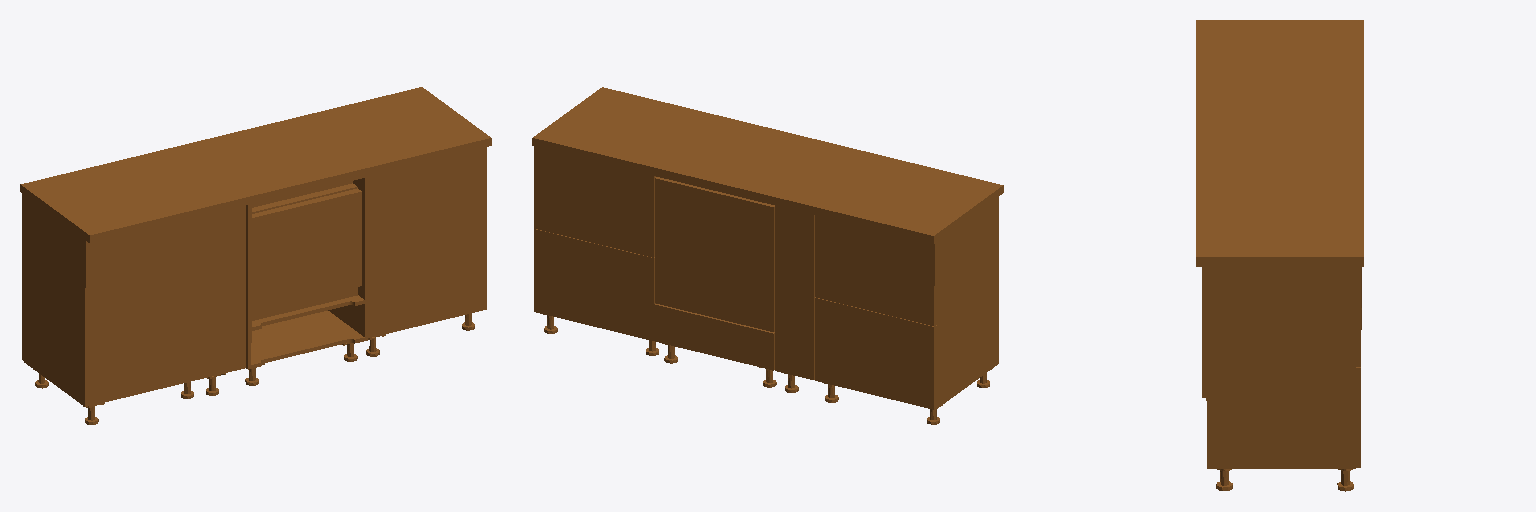
The robot description file, URDF, robot "countertop":
<?xml version="1.0"?>
<robot name="countertop">
<link name="countertop_base_link">
  <inertial>
    <mass value="0.0"/>
    <origin xyz="0 0 0" rpy="1.57 0 3.14"/>
    <inertia ixx="0.01" ixy="0" ixz="0" iyy="0.01" iyz="0" izz="0.01"/>
  </inertial>

  <visual>
    <origin xyz="0 0 0" rpy="1.57 0 3.14"/>
    <geometry>
      <mesh filename="package://meshes/countertop.dae" scale="1 1 1"/>
    </geometry>
    <material name="material_name">
      <color rgba="0.6 0.4 0.2 1.0"/>
    </material>
  </visual>

  <collision>
    <origin xyz="0 0 0" rpy="1.57 0 3.14"/>
    <geometry>
      <mesh filename="package://meshes/countertop.dae" scale="1 1 1"/> 
      
      </geometry>
  </collision>
</link>
</robot>

--- What the picture shows (computed from the rendered views, not written in the file) ---
3 views of the same robot in one strip: view 1: azimuth 30°, elevation 25°; view 2: azimuth 150°, elevation 25°; view 3: azimuth 270°, elevation 25° (orthographic).
Model countertop with 1 links and 0 joints (none), rooted at countertop_base_link, posed all joints at 0.
Visible links, largest first — view 1: countertop_base_link; view 2: countertop_base_link; view 3: countertop_base_link.
Link boxes in pixels (<box>): countertop_base_link: <box>20,87,491,424</box>; countertop_base_link: <box>532,87,1003,424</box>; countertop_base_link: <box>1196,20,1363,491</box>.
Bounding box of the posed robot: 2 × 0.6032 × 0.9344 m (x, y, z).
1 mesh visuals loaded from 1 distinct referenced files (1 Collada DAE).
